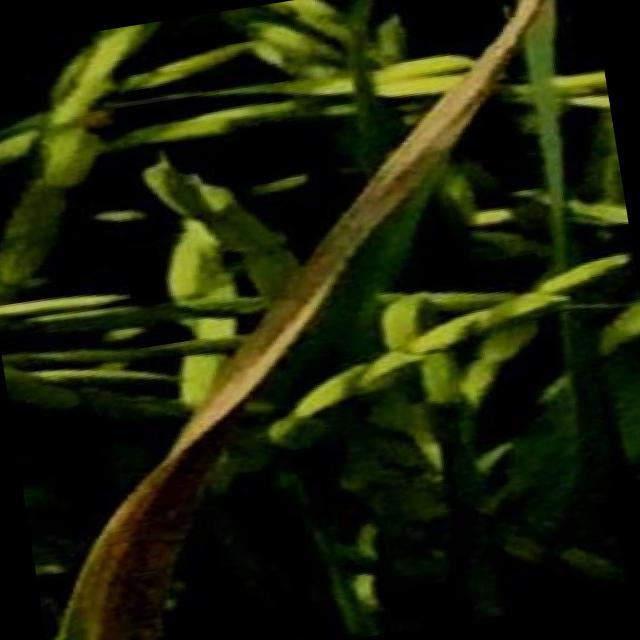Rice_Bacterial_Blight: (198, 83, 482, 398)
